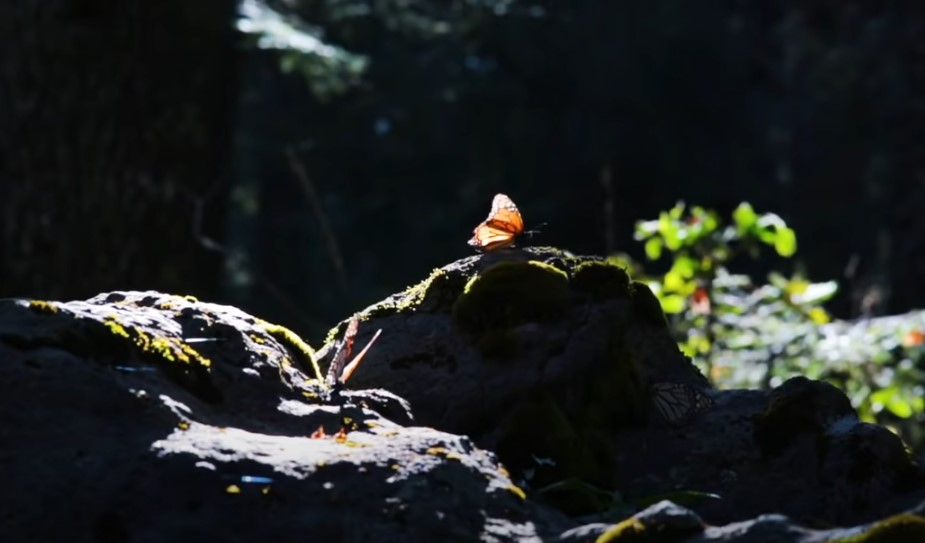Butterfly: (466, 187, 544, 253)
